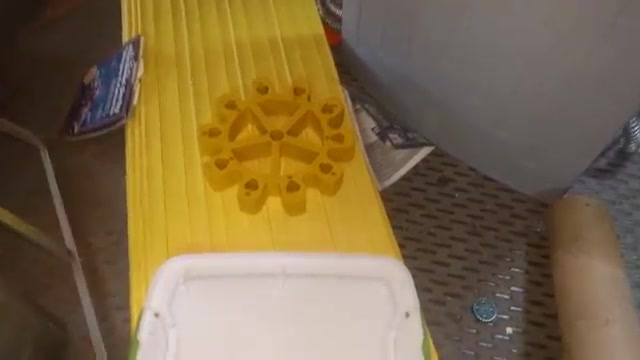gear: (190, 69, 367, 225)
